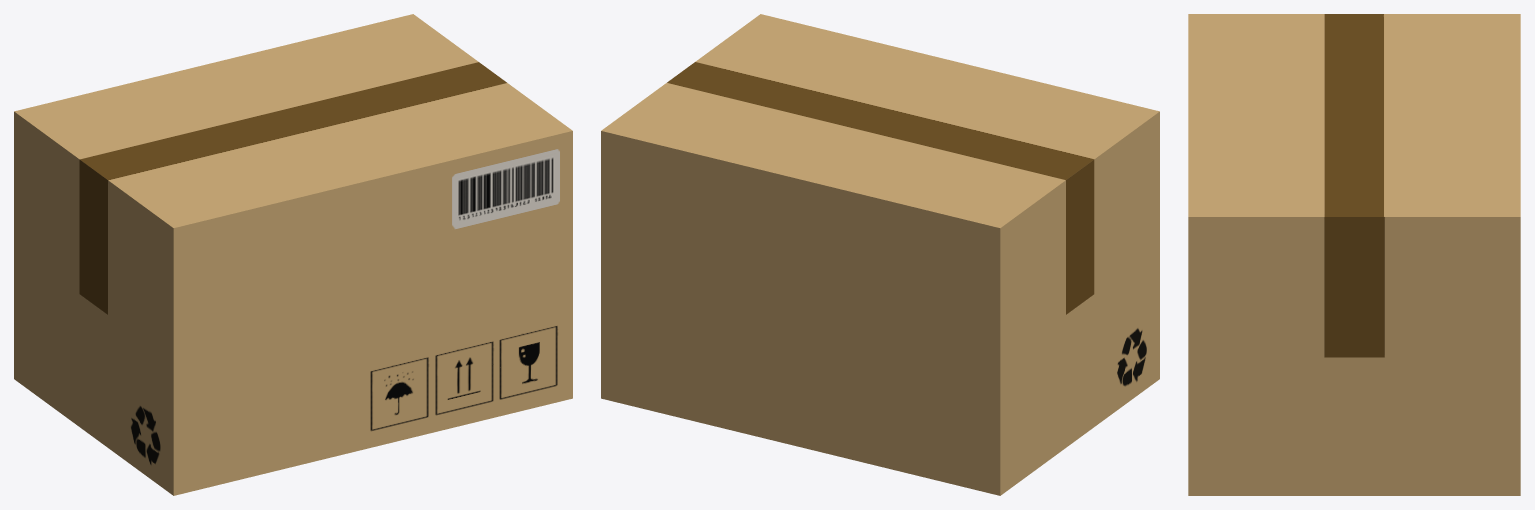
Rendered from paketti.fbx.
3 views of the same model, side by side, from view 1: azimuth 30°, elevation 25°; view 2: azimuth 150°, elevation 25°; view 3: azimuth 270°, elevation 25° (orthographic). The views are drawn at different scales.
Parts seen in each view (by area): view 1: Cube; view 2: Cube; view 3: Cube.
Boxes of the visible parts, box(x1,y1,x2,y2) form: Cube: box(14, 14, 572, 495); Cube: box(601, 14, 1159, 495); Cube: box(1188, 14, 1520, 495).
Size of the model in its own units: 45.9 by 29.41 by 31.78.
